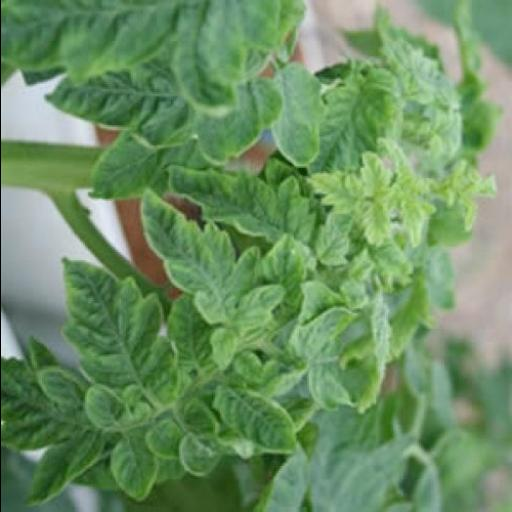Yellow Leaf Curl Virus: (0, 0, 310, 119), (43, 62, 285, 166), (133, 190, 256, 346), (0, 340, 110, 506), (57, 251, 177, 403), (308, 143, 431, 249), (306, 56, 404, 188), (170, 165, 318, 244), (86, 130, 196, 204), (209, 381, 302, 456), (264, 64, 324, 168), (261, 226, 312, 318), (287, 302, 357, 368), (104, 429, 158, 504)
